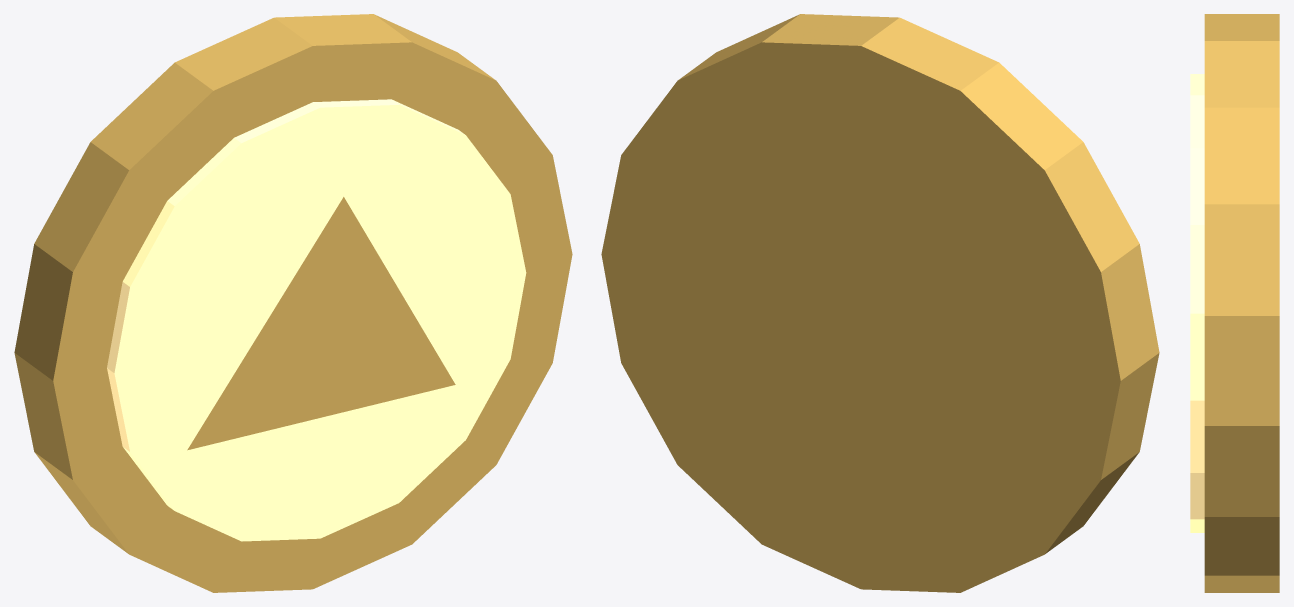
The model's file is coin.glb.
3 renders of one model, left to right at view 1: azimuth 30°, elevation 25°; view 2: azimuth 150°, elevation 25°; view 3: azimuth 270°, elevation 25°, orthographic. The views are drawn at different scales.
Visible parts, largest first — view 1: Prop_coin; view 2: Prop_coin; view 3: Prop_coin.
Part boxes in pixels (x1,y1,x2,y2): Prop_coin: [14, 14, 572, 592]; Prop_coin: [601, 14, 1159, 592]; Prop_coin: [1190, 14, 1279, 592].
Bounding box in the file's own units: 0.58 × 0.58 × 0.0915.
